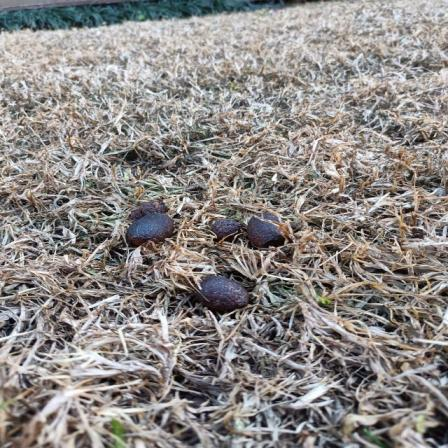dog-poop: (205, 203, 292, 246), (191, 266, 255, 318), (115, 196, 175, 246)
